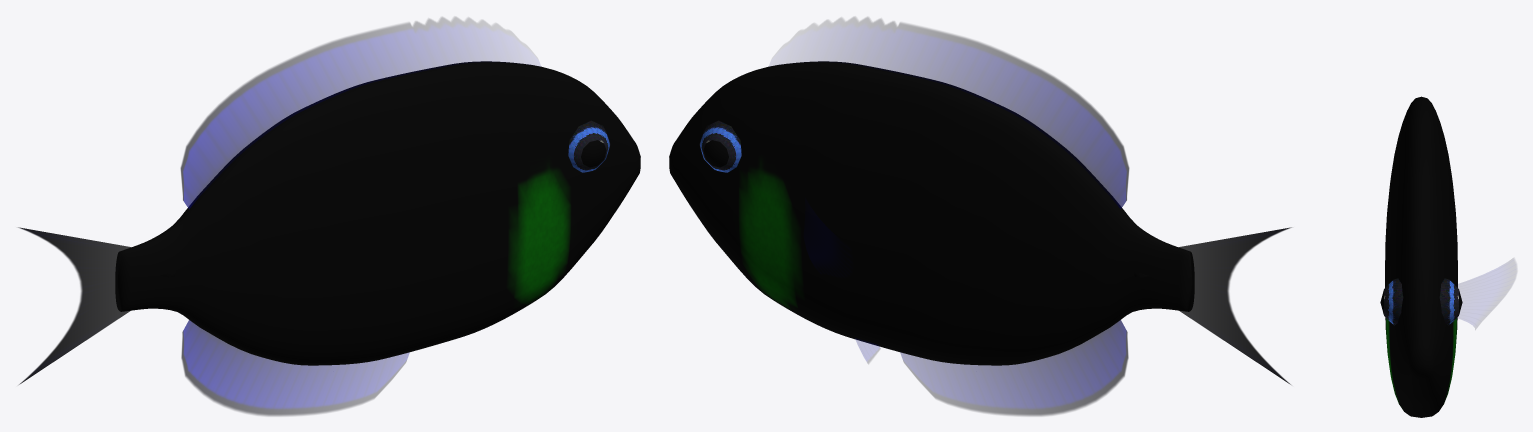
The model's file is tang.glb.
The picture shows the model from 3 angles, left to right: view 1: azimuth 30°, elevation 25°; view 2: azimuth 150°, elevation 25°; view 3: azimuth 270°, elevation 25°; orthographic projection. The views are drawn at different scales.
Visible parts, largest first — view 1: Body, FinDorsal, FinAnal, FinCaudal, EyeR; view 2: Body, FinDorsal, FinAnal, FinCaudal, FinPectoralL, EyeL; view 3: Body, FinPectoralL, EyeL, EyeR.
Part boxes in pixels (left/top/right/bottom): Body: left=116, top=61, right=640, bottom=365; FinDorsal: left=180, top=17, right=532, bottom=208; FinAnal: left=181, top=320, right=409, bottom=415; FinCaudal: left=18, top=227, right=132, bottom=384; EyeR: left=568, top=120, right=610, bottom=172; Body: left=669, top=61, right=1193, bottom=365; FinDorsal: left=777, top=17, right=1129, bottom=208; FinAnal: left=900, top=320, right=1128, bottom=415; FinCaudal: left=1177, top=227, right=1291, bottom=384; FinPectoralL: left=804, top=198, right=851, bottom=276; EyeL: left=699, top=120, right=741, bottom=172; Body: left=1385, top=96, right=1457, bottom=417; FinPectoralL: left=1457, top=258, right=1516, bottom=329; EyeL: left=1439, top=278, right=1462, bottom=325; EyeR: left=1380, top=278, right=1403, bottom=325.
Size of the model in its own units: 1 by 0.5727 by 0.2996.
4 materials, 3 textured.
